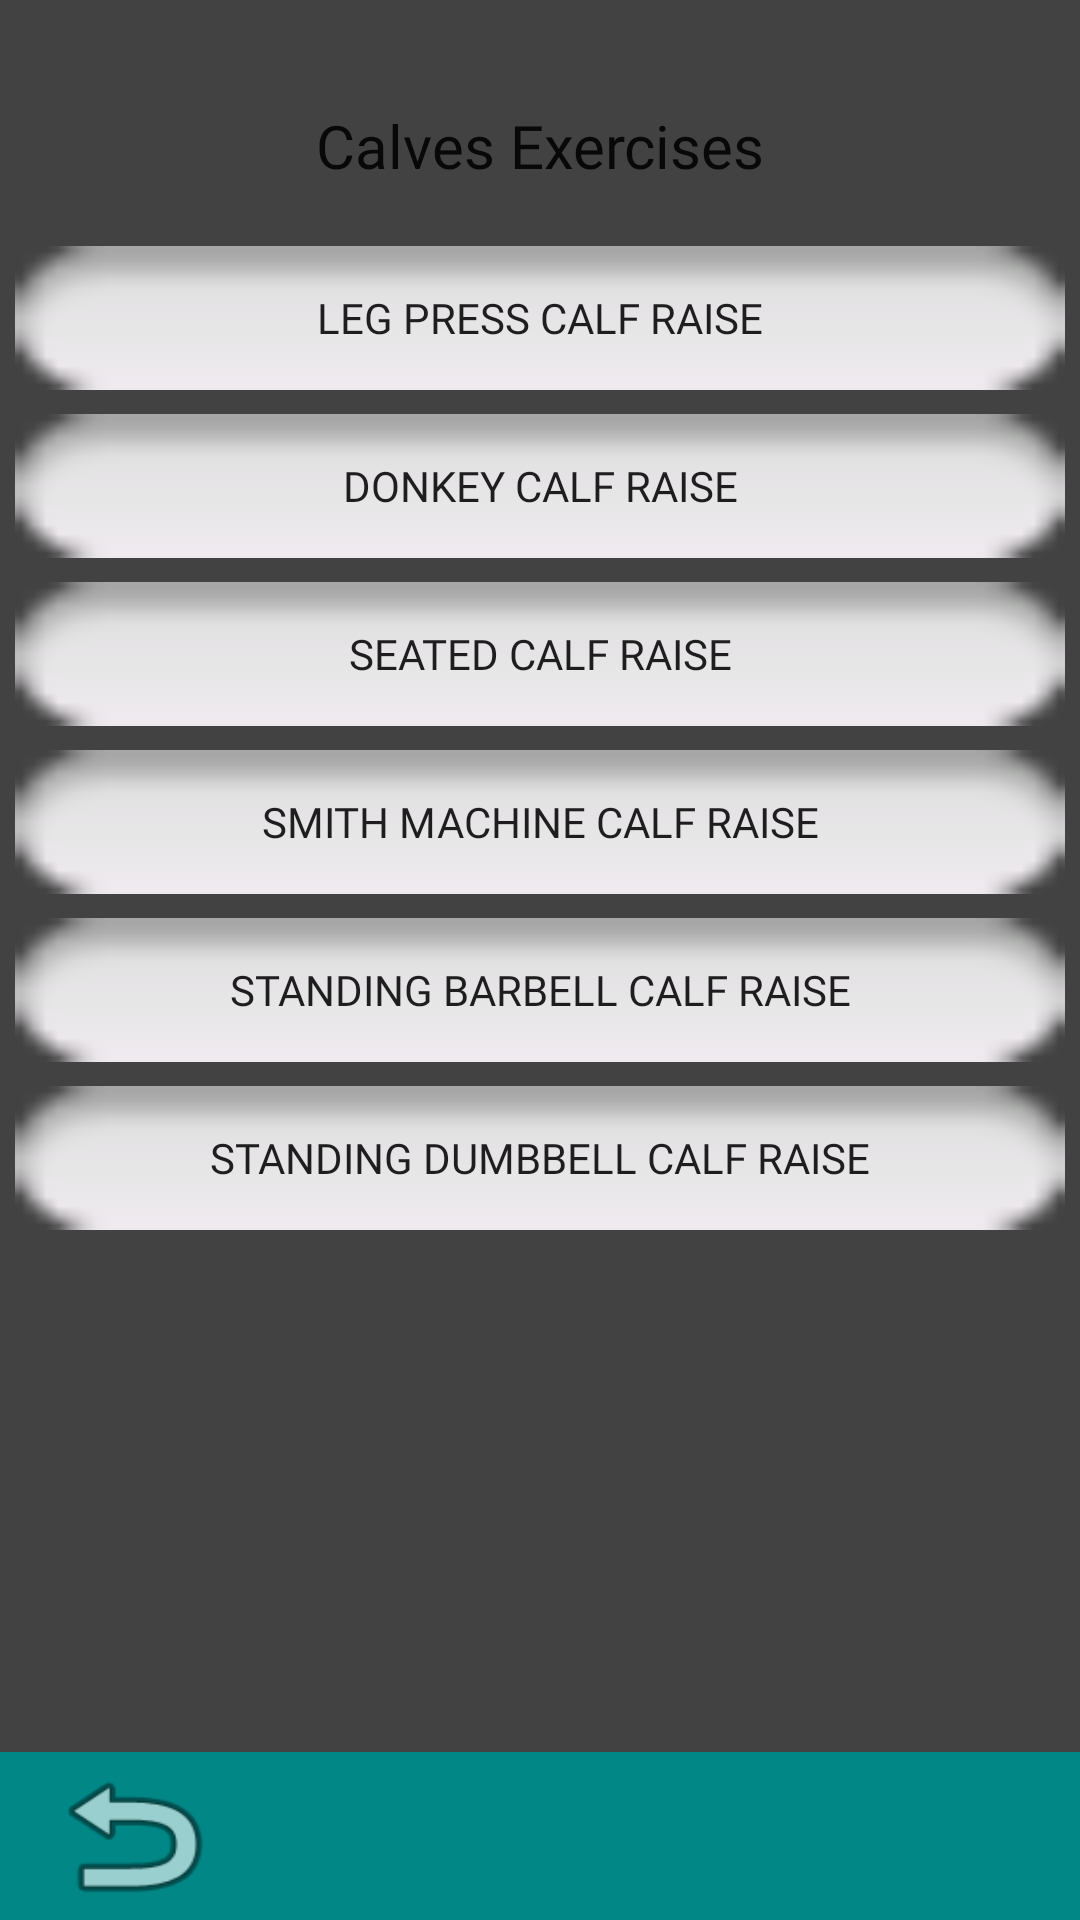

Icons on this 1080w x 1920h Android screen, each with its box as (x1, y1, x2, y2):
revert: (69, 1783, 202, 1892)
